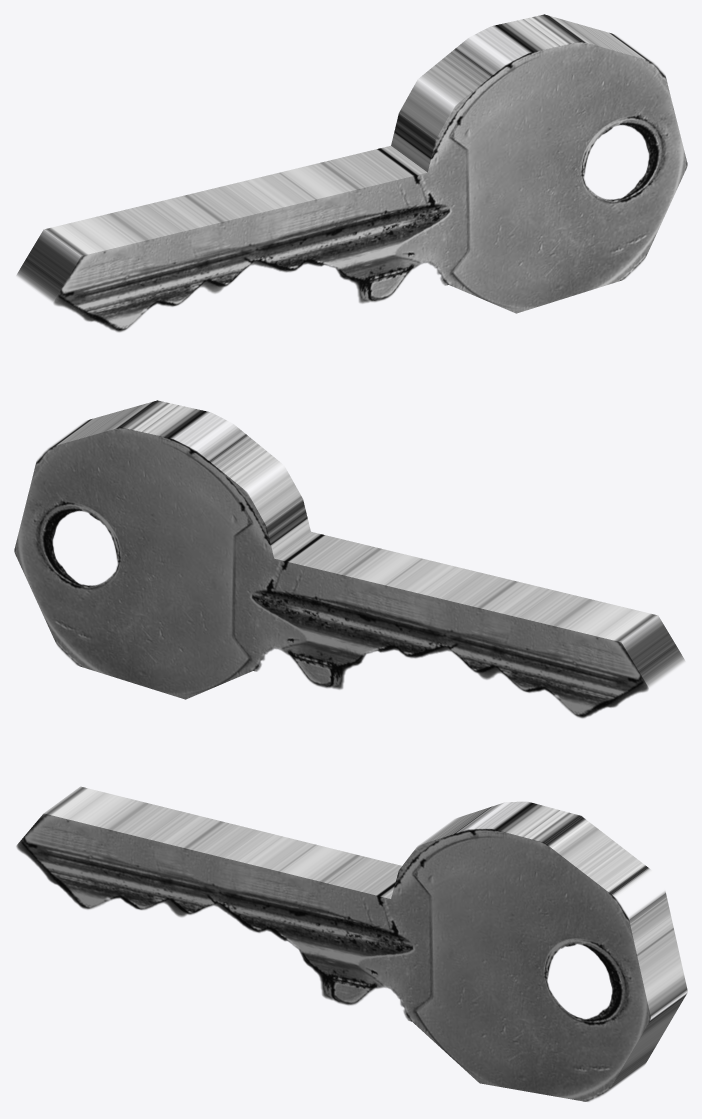
The model's file is kljuc2.glb.
The picture shows the model from 3 angles, top to bottom: view 1: azimuth 30°, elevation 25°; view 2: azimuth 150°, elevation 25°; view 3: azimuth 330°, elevation 25°; orthographic projection.
Parts seen in each view (by area): view 1: Cube; view 2: Cube; view 3: Cube.
Boxes of the visible parts, x1,y1,x2,y2 form: Cube: [16, 14, 687, 332]; Cube: [14, 400, 685, 718]; Cube: [16, 786, 687, 1101].
Size of the model in its own units: 4.65 by 1.8 by 0.465.
Materials: 1 (1 with a texture image).
